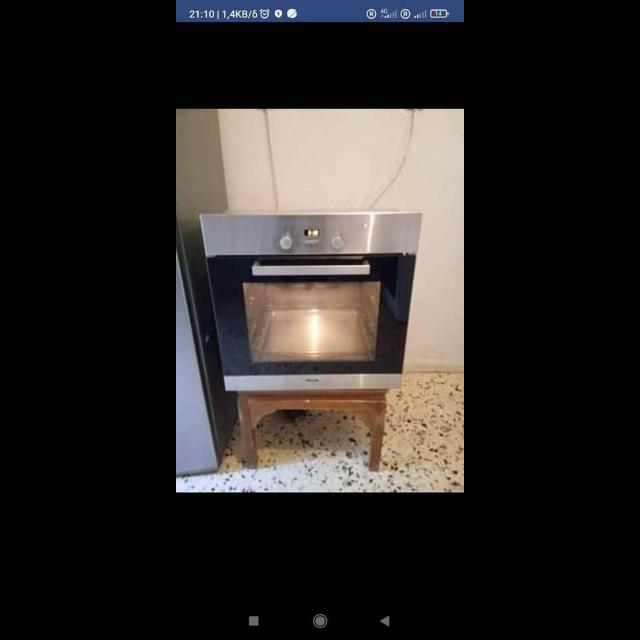Oven: (196, 210, 418, 388)
